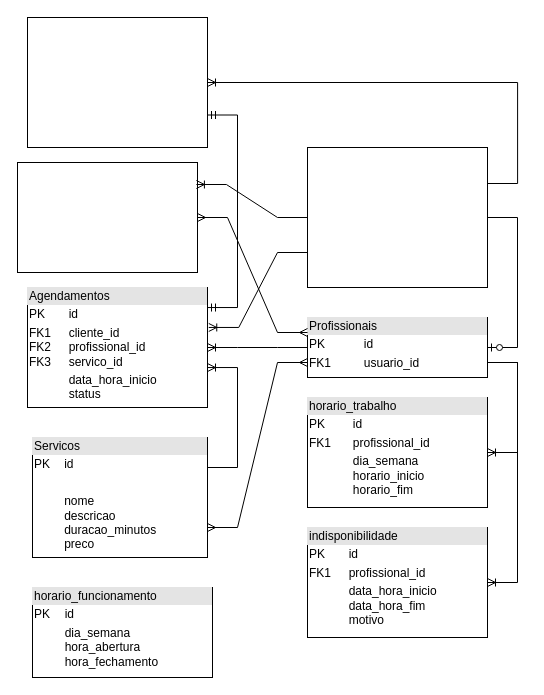
The diagram is 544 pixels wide and 695 high, and some of its shapes have lost their labels. Here are the shapes that lost their labels. From the top down, the centre of each, then its label:
At (x=117, y=82): "Avaliação PK id FK1 FK2 agendamento_id cliente_id nota comentario data_avaliacao".
At (x=107, y=217): "anotacoes_cliente PK id FK1 FK2 cliente_id profissional_id anotacao data_criacao".
At (x=397, y=217): "Usuarios PK id nome email senha telefone perfil".
